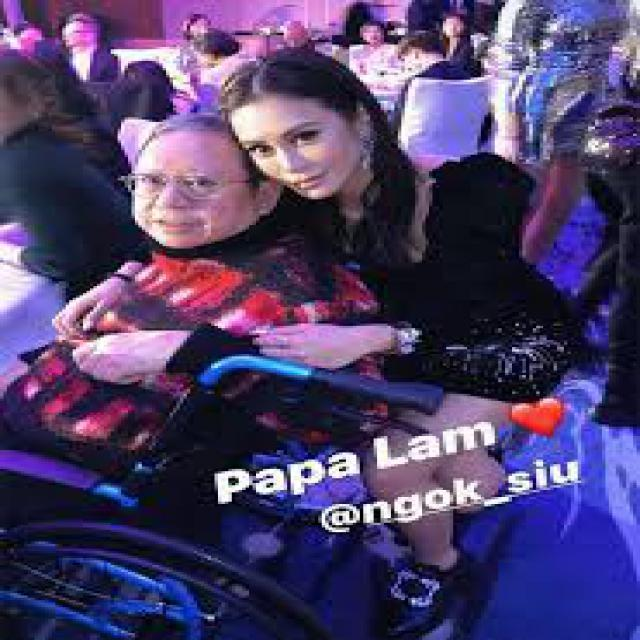wheelchairs: (0, 344, 460, 638)
